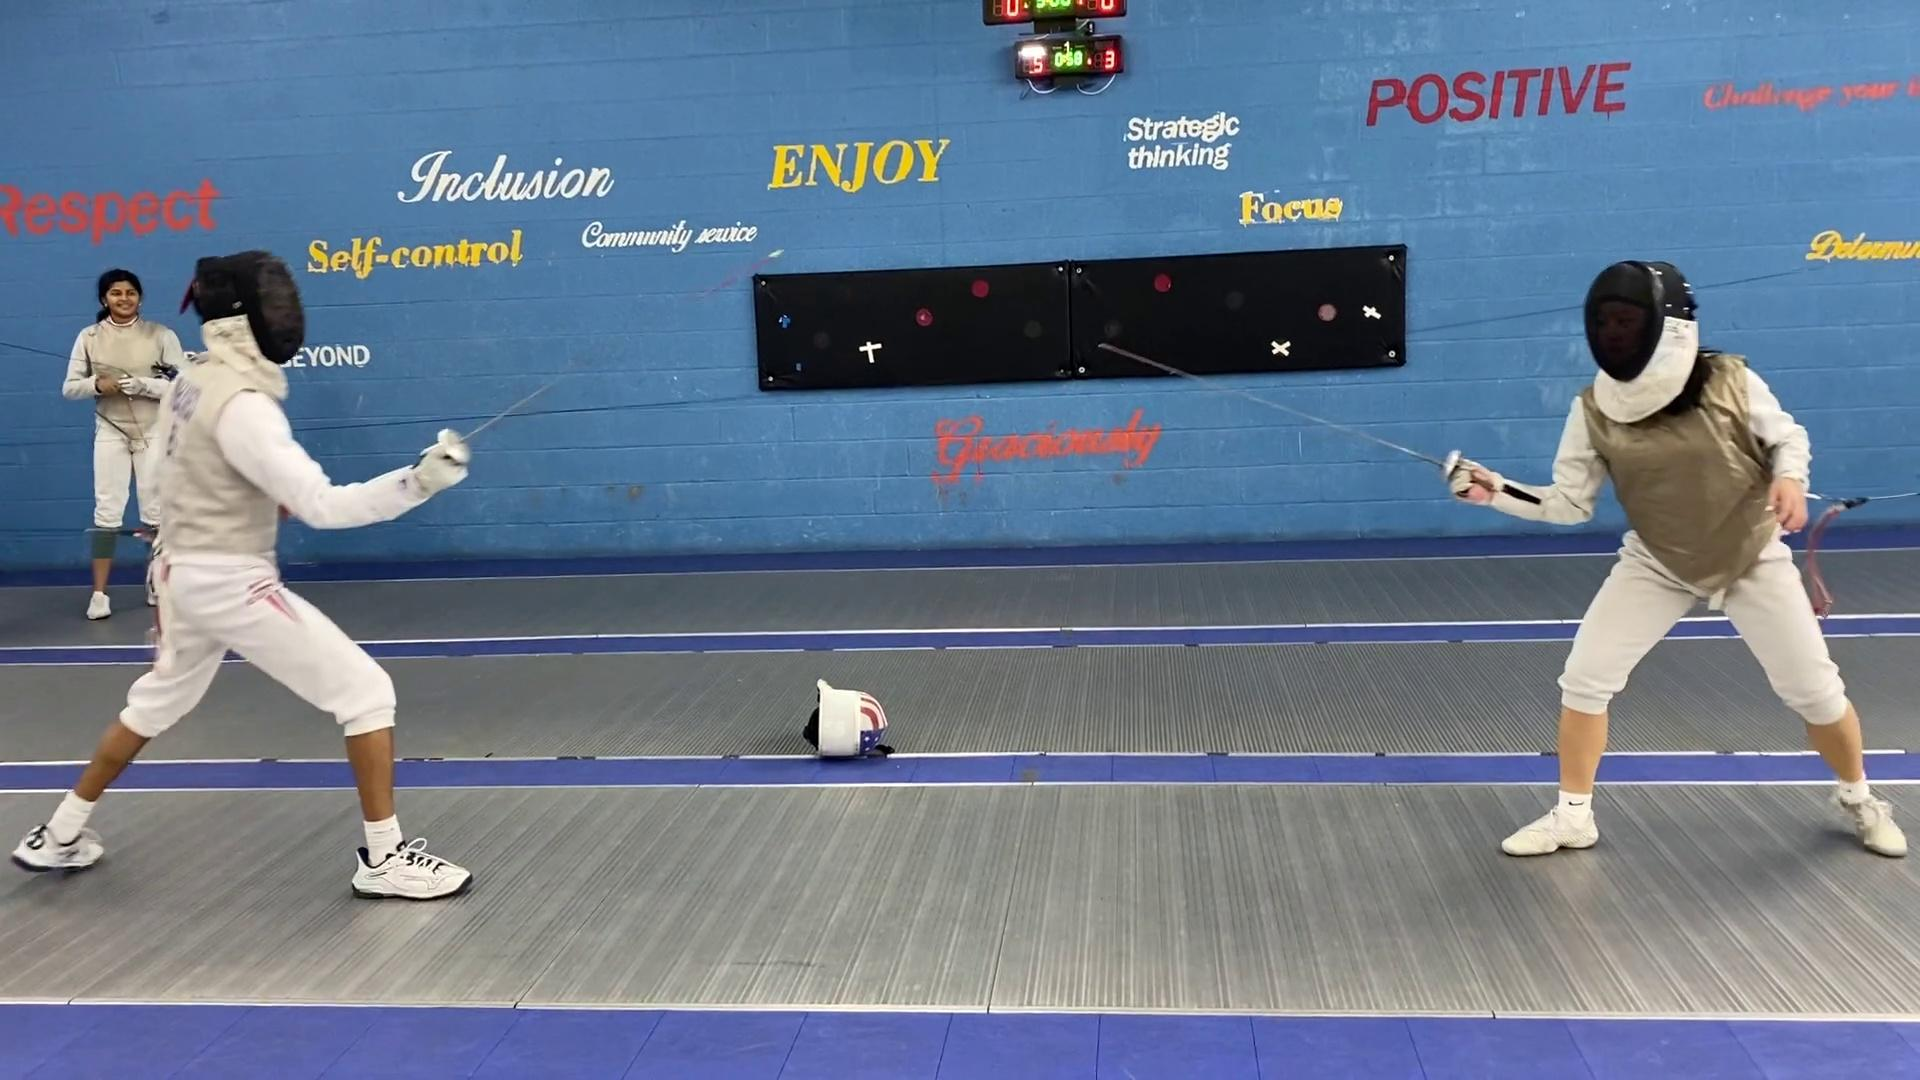blade-guard: (434, 421, 475, 469), (1436, 448, 1466, 491)
blade-tip: (1098, 338, 1187, 380), (713, 247, 791, 291)
fencing-blade: (429, 243, 791, 471), (1095, 338, 1501, 508)
